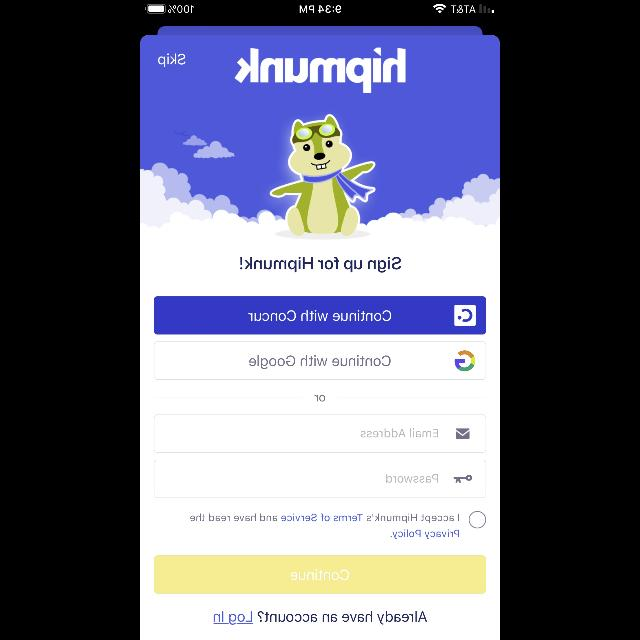checkbox: (468, 511, 486, 529)
icon: (453, 475, 471, 483), (456, 429, 468, 439)
image: (140, 36, 500, 240), (234, 47, 406, 93)
input: (154, 415, 486, 453), (154, 460, 486, 498)
text: (191, 514, 459, 538), (214, 611, 426, 625), (240, 257, 402, 273), (360, 428, 438, 438), (386, 473, 438, 482), (158, 54, 186, 68), (314, 394, 326, 402)
textbutton: (154, 555, 486, 593), (154, 342, 486, 380), (154, 297, 486, 335)
uppertaskbar: (140, 0, 500, 14)
